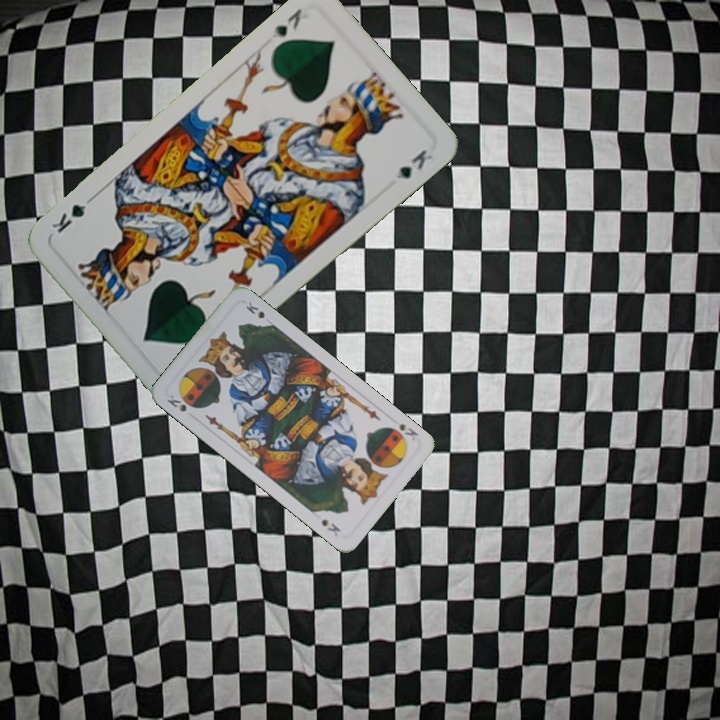GK: (267, 4, 305, 41)
SK: (394, 419, 421, 443), (163, 391, 189, 414)
